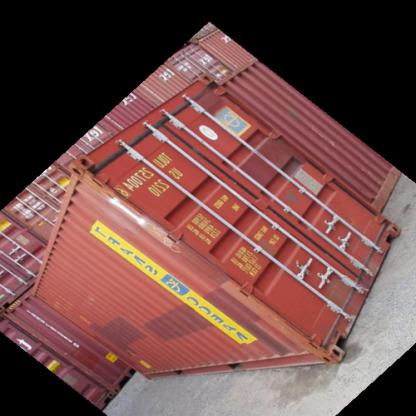Damage: (250, 293, 336, 368), (80, 174, 172, 244), (338, 255, 382, 324)
